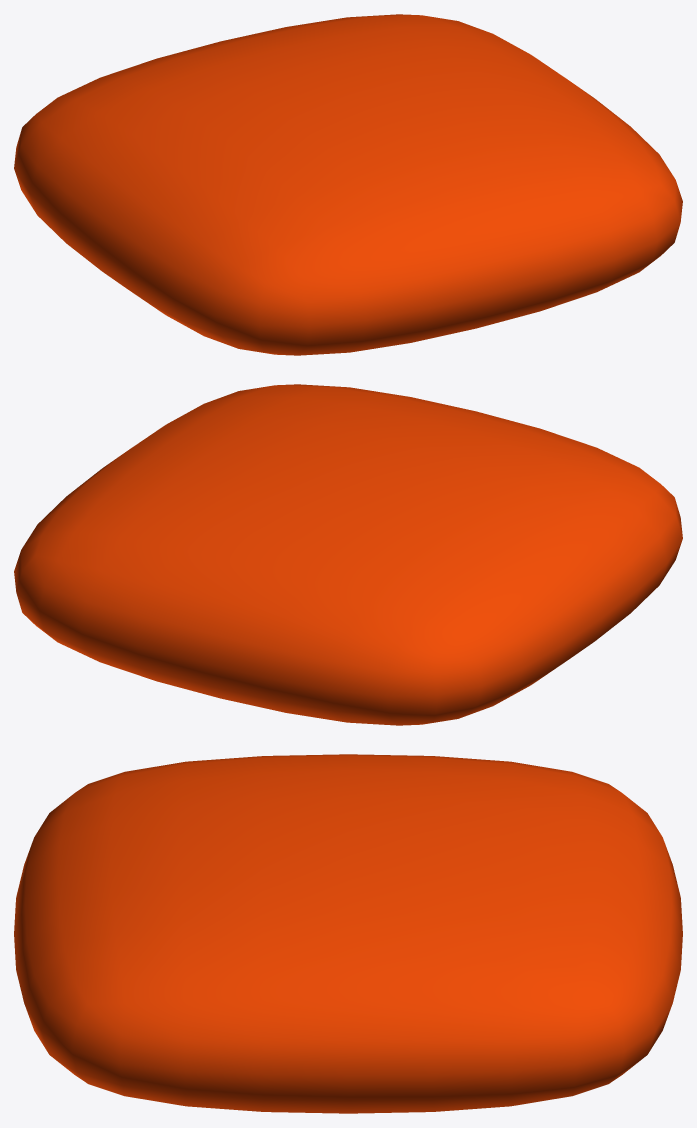
File: SM_pillow_red.glb
3 renders of one model, top to bottom at view 1: azimuth 30°, elevation 25°; view 2: azimuth 150°, elevation 25°; view 3: azimuth 270°, elevation 25°, orthographic. The views are drawn at different scales.
Parts seen in each view (by area): view 1: SM_pillow_red; view 2: SM_pillow_red; view 3: SM_pillow_red.
Boxes of the visible parts, x1,y1,x2,y2 form: SM_pillow_red: [14, 14, 682, 355]; SM_pillow_red: [14, 384, 682, 725]; SM_pillow_red: [14, 754, 682, 1113].
Bounding box in the file's own units: 0.5046 × 0.1711 × 0.5046.
1 material, 1 textured.
